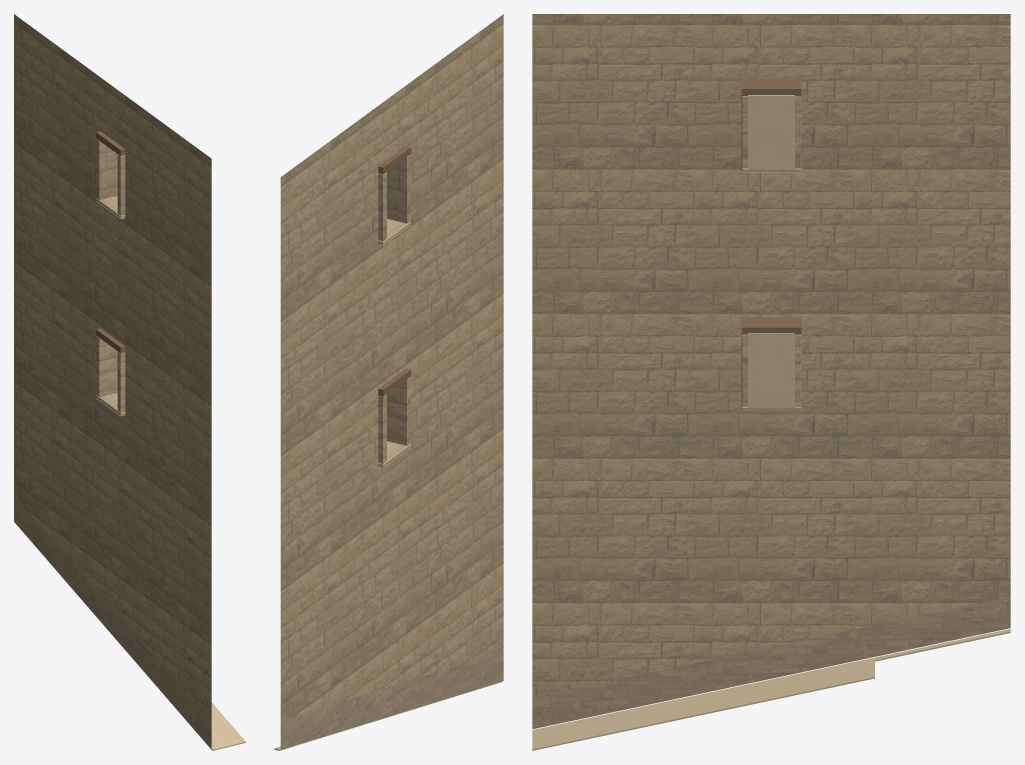
File: rug-receivers-tea-stairs.glb
The picture shows the model from 3 angles, left to right: view 1: azimuth 30°, elevation 25°; view 2: azimuth 150°, elevation 25°; view 3: azimuth 270°, elevation 25°; orthographic projection. The views are drawn at different scales.
Parts seen in each view (by area): view 1: bz06_dressed_sandstone-cast, bz06_service_stone-cast, bz06_cream_plaster-cast, bz04_craft_warm_timber-cast, bz06_monolithic_stone_trim-cast; view 2: bz06_dressed_sandstone-cast, bz06_service_stone-cast, bz04_craft_warm_timber-cast, bz06_monolithic_stone_trim-cast; view 3: bz06_dressed_sandstone-cast, bz06_service_stone-cast, bz06_cream_plaster-cast, bz04_craft_warm_timber-cast.
Part boxes in pixels (x1,y1,x2,y2): bz06_dressed_sandstone-cast: (14,14,211,723); bz06_service_stone-cast: (14,496,211,749); bz06_cream_plaster-cast: (211,702,245,750); bz04_craft_warm_timber-cast: (96,131,125,353); bz06_monolithic_stone_trim-cast: (96,195,125,416); bz06_dressed_sandstone-cast: (280,14,503,719); bz06_service_stone-cast: (280,651,503,749); bz04_craft_warm_timber-cast: (378,146,411,396); bz06_monolithic_stone_trim-cast: (378,219,411,468); bz06_dressed_sandstone-cast: (532,14,1010,697); bz06_service_stone-cast: (532,596,1010,729); bz06_cream_plaster-cast: (532,95,1010,750); bz04_craft_warm_timber-cast: (741,79,801,334).
Size of the model in its own units: 0.68 by 9.92 by 6.
5 materials, 5 textured.
